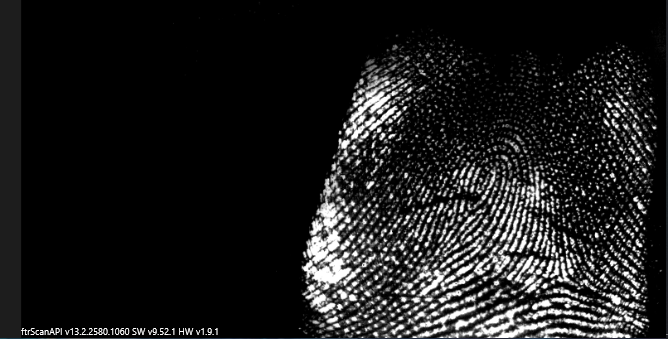deltas: (533, 246, 584, 301)
nucleo: (454, 153, 509, 205)
